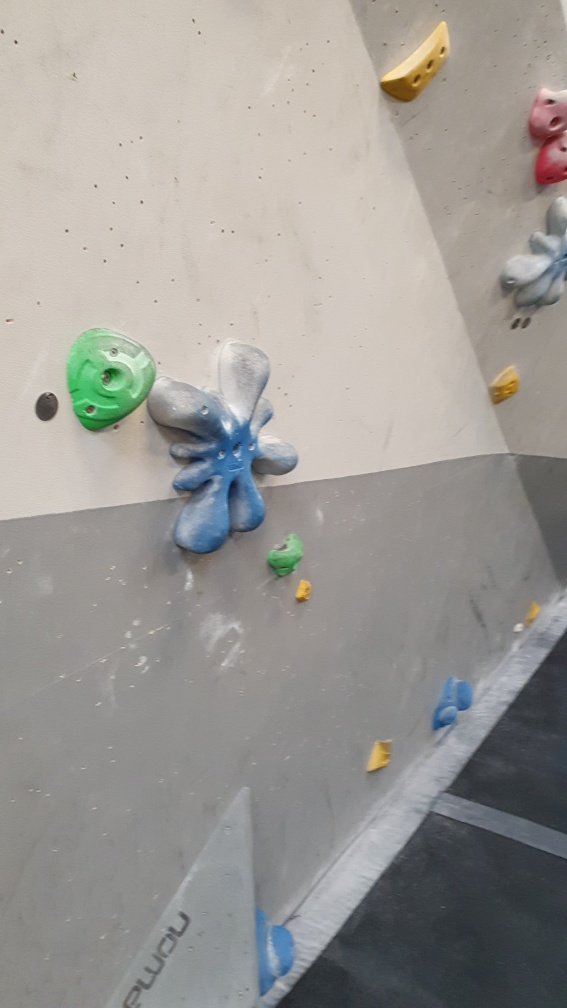Hand Start: (31, 387, 64, 423)
Jug: (60, 328, 156, 441), (528, 79, 567, 138), (265, 529, 305, 578)
Octopus Pinch: (144, 341, 298, 557), (500, 192, 567, 306)
Sloper: (253, 905, 298, 1000)
